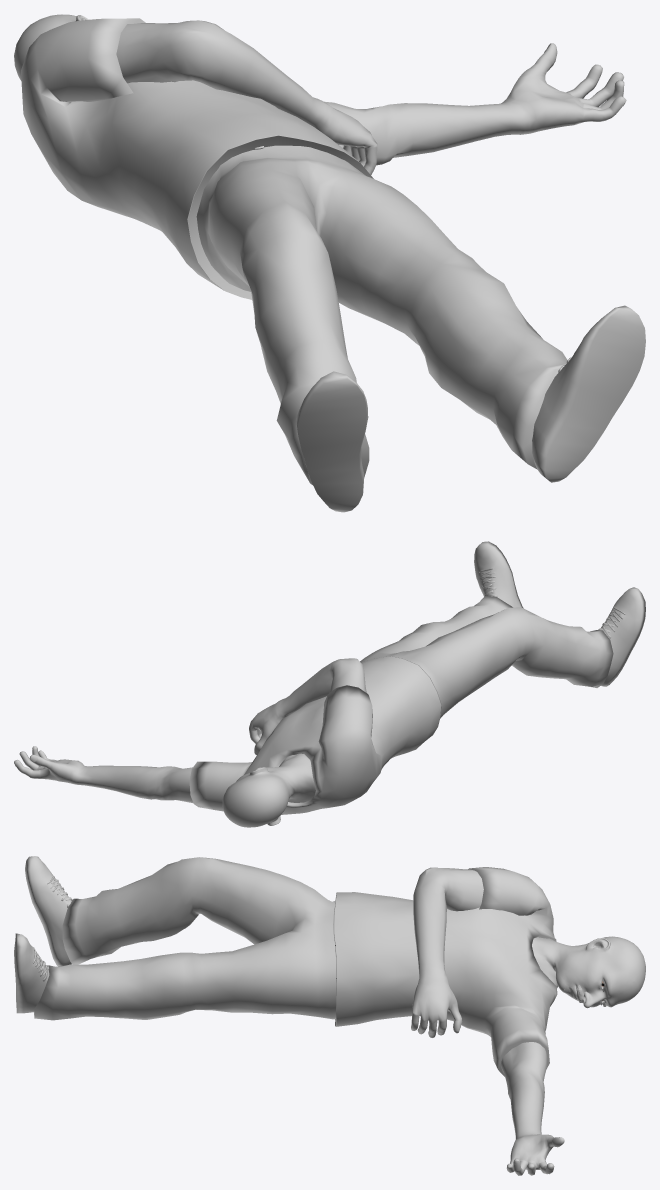
Rendered from prisoner2Crop.fbx.
3 renders of one model, top to bottom at view 1: azimuth 30°, elevation 25°; view 2: azimuth 150°, elevation 25°; view 3: azimuth 270°, elevation 25°, orthographic. The views are drawn at different scales.
Visible parts, largest first — view 1: Bottoms, Tops, Body, Shoes; view 2: Tops, Bottoms, Body, Shoes; view 3: Bottoms, Tops, Body, Shoes.
Boxes of the visible parts, <box> form: Bottoms: <box>196,145,567,484</box>; Tops: <box>21,18,373,299</box>; Body: <box>14,14,626,174</box>; Shoes: <box>296,305,645,512</box>; Tops: <box>189,656,441,814</box>; Bottoms: <box>360,596,613,718</box>; Body: <box>14,658,366,827</box>; Shoes: <box>474,541,645,686</box>; Bottoms: <box>34,857,336,1020</box>; Tops: <box>333,867,557,1076</box>; Body: <box>411,867,645,1175</box>; Shoes: <box>14,856,72,1013</box>.
Size of the model in its own units: 1.46 by 0.5093 by 1.8.
